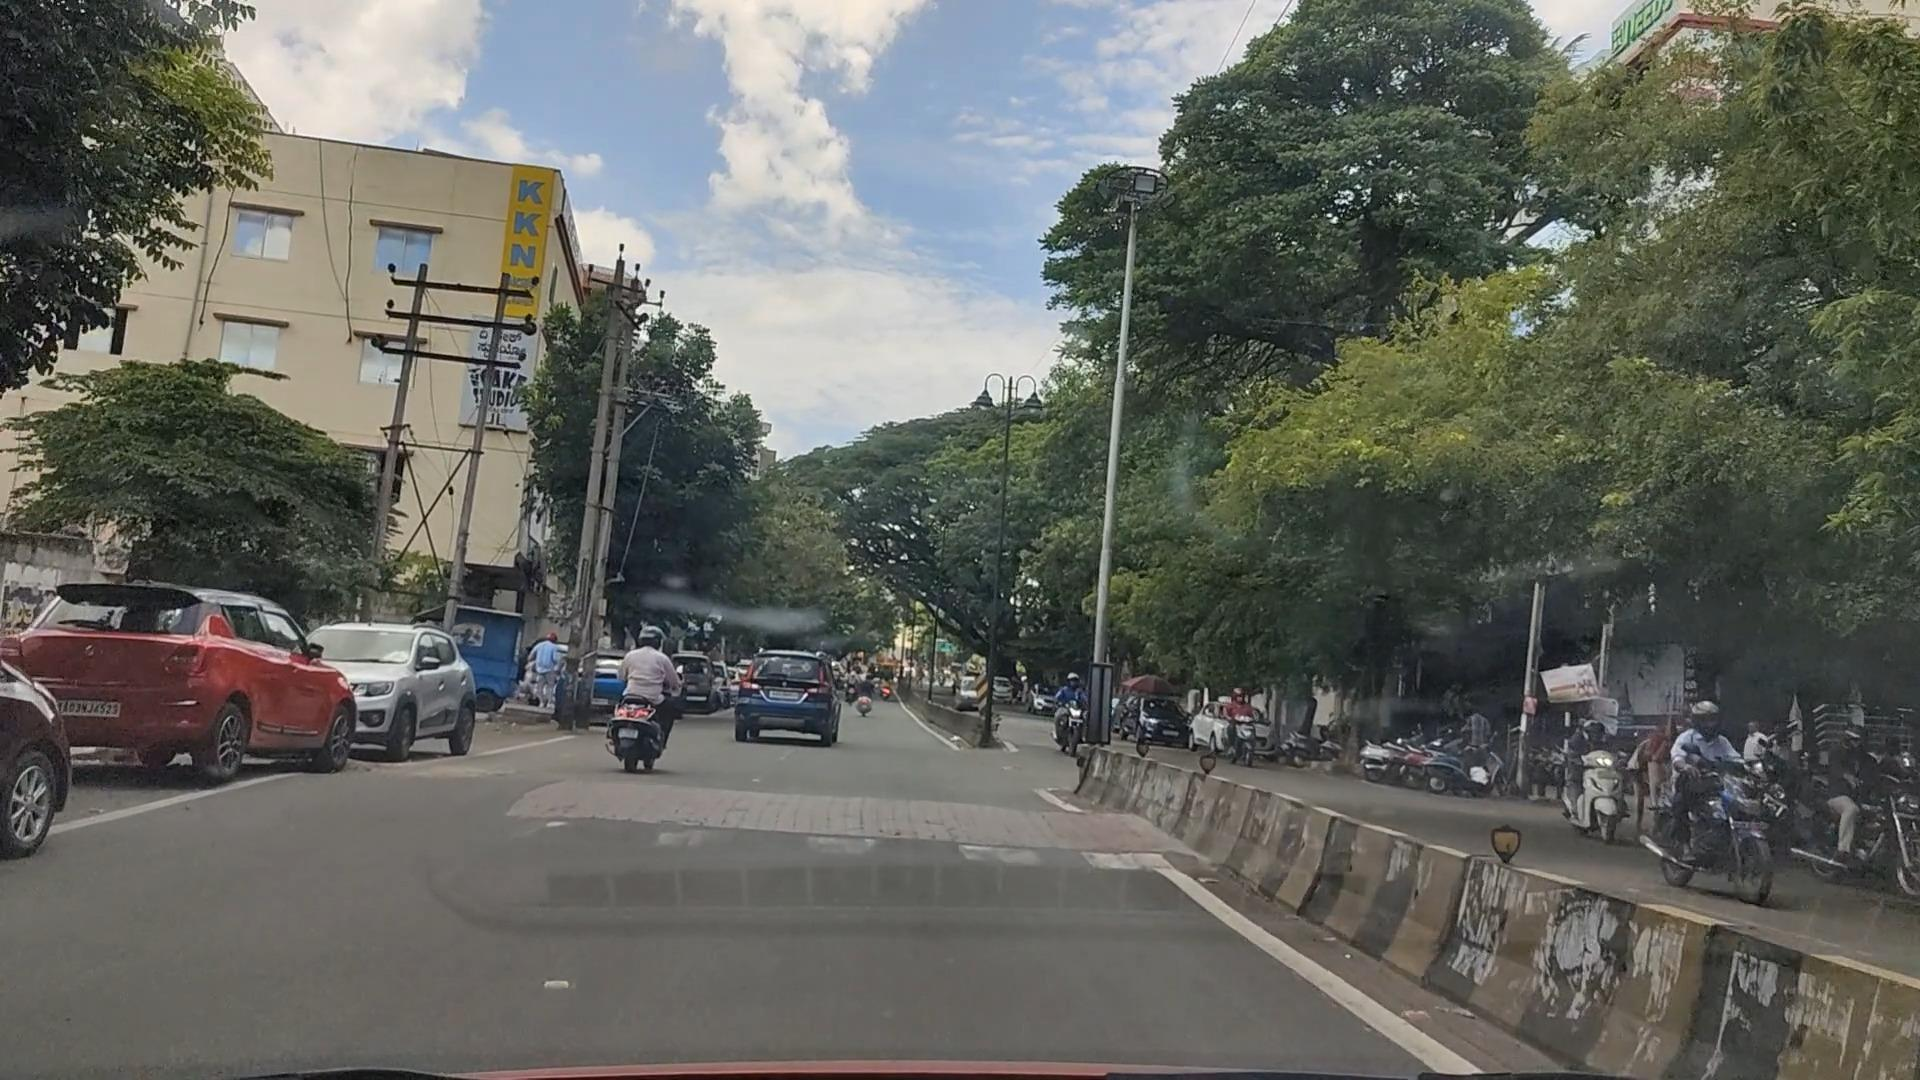LMV: (46, 580, 360, 774)
SpeedBump: (276, 738, 1171, 893)
